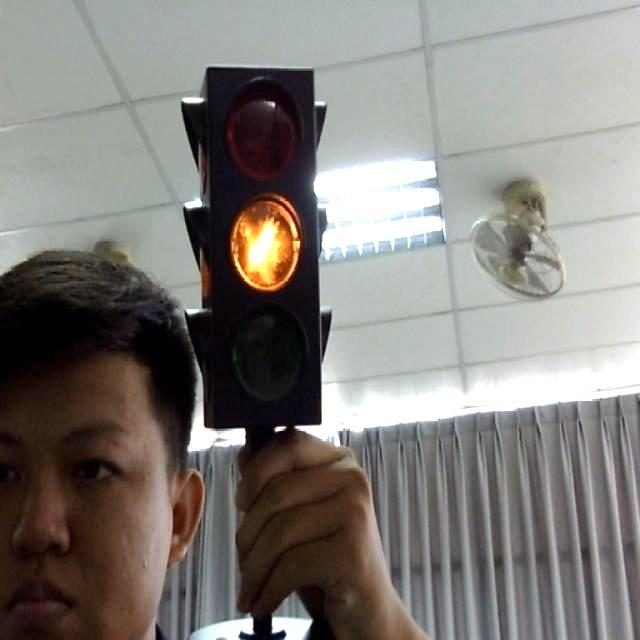Yellow: (180, 56, 337, 430)
